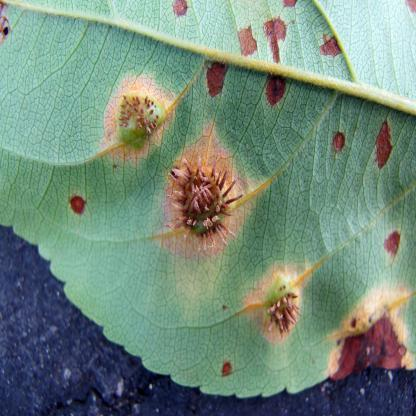Apple rust leaf: (2, 1, 416, 400)
